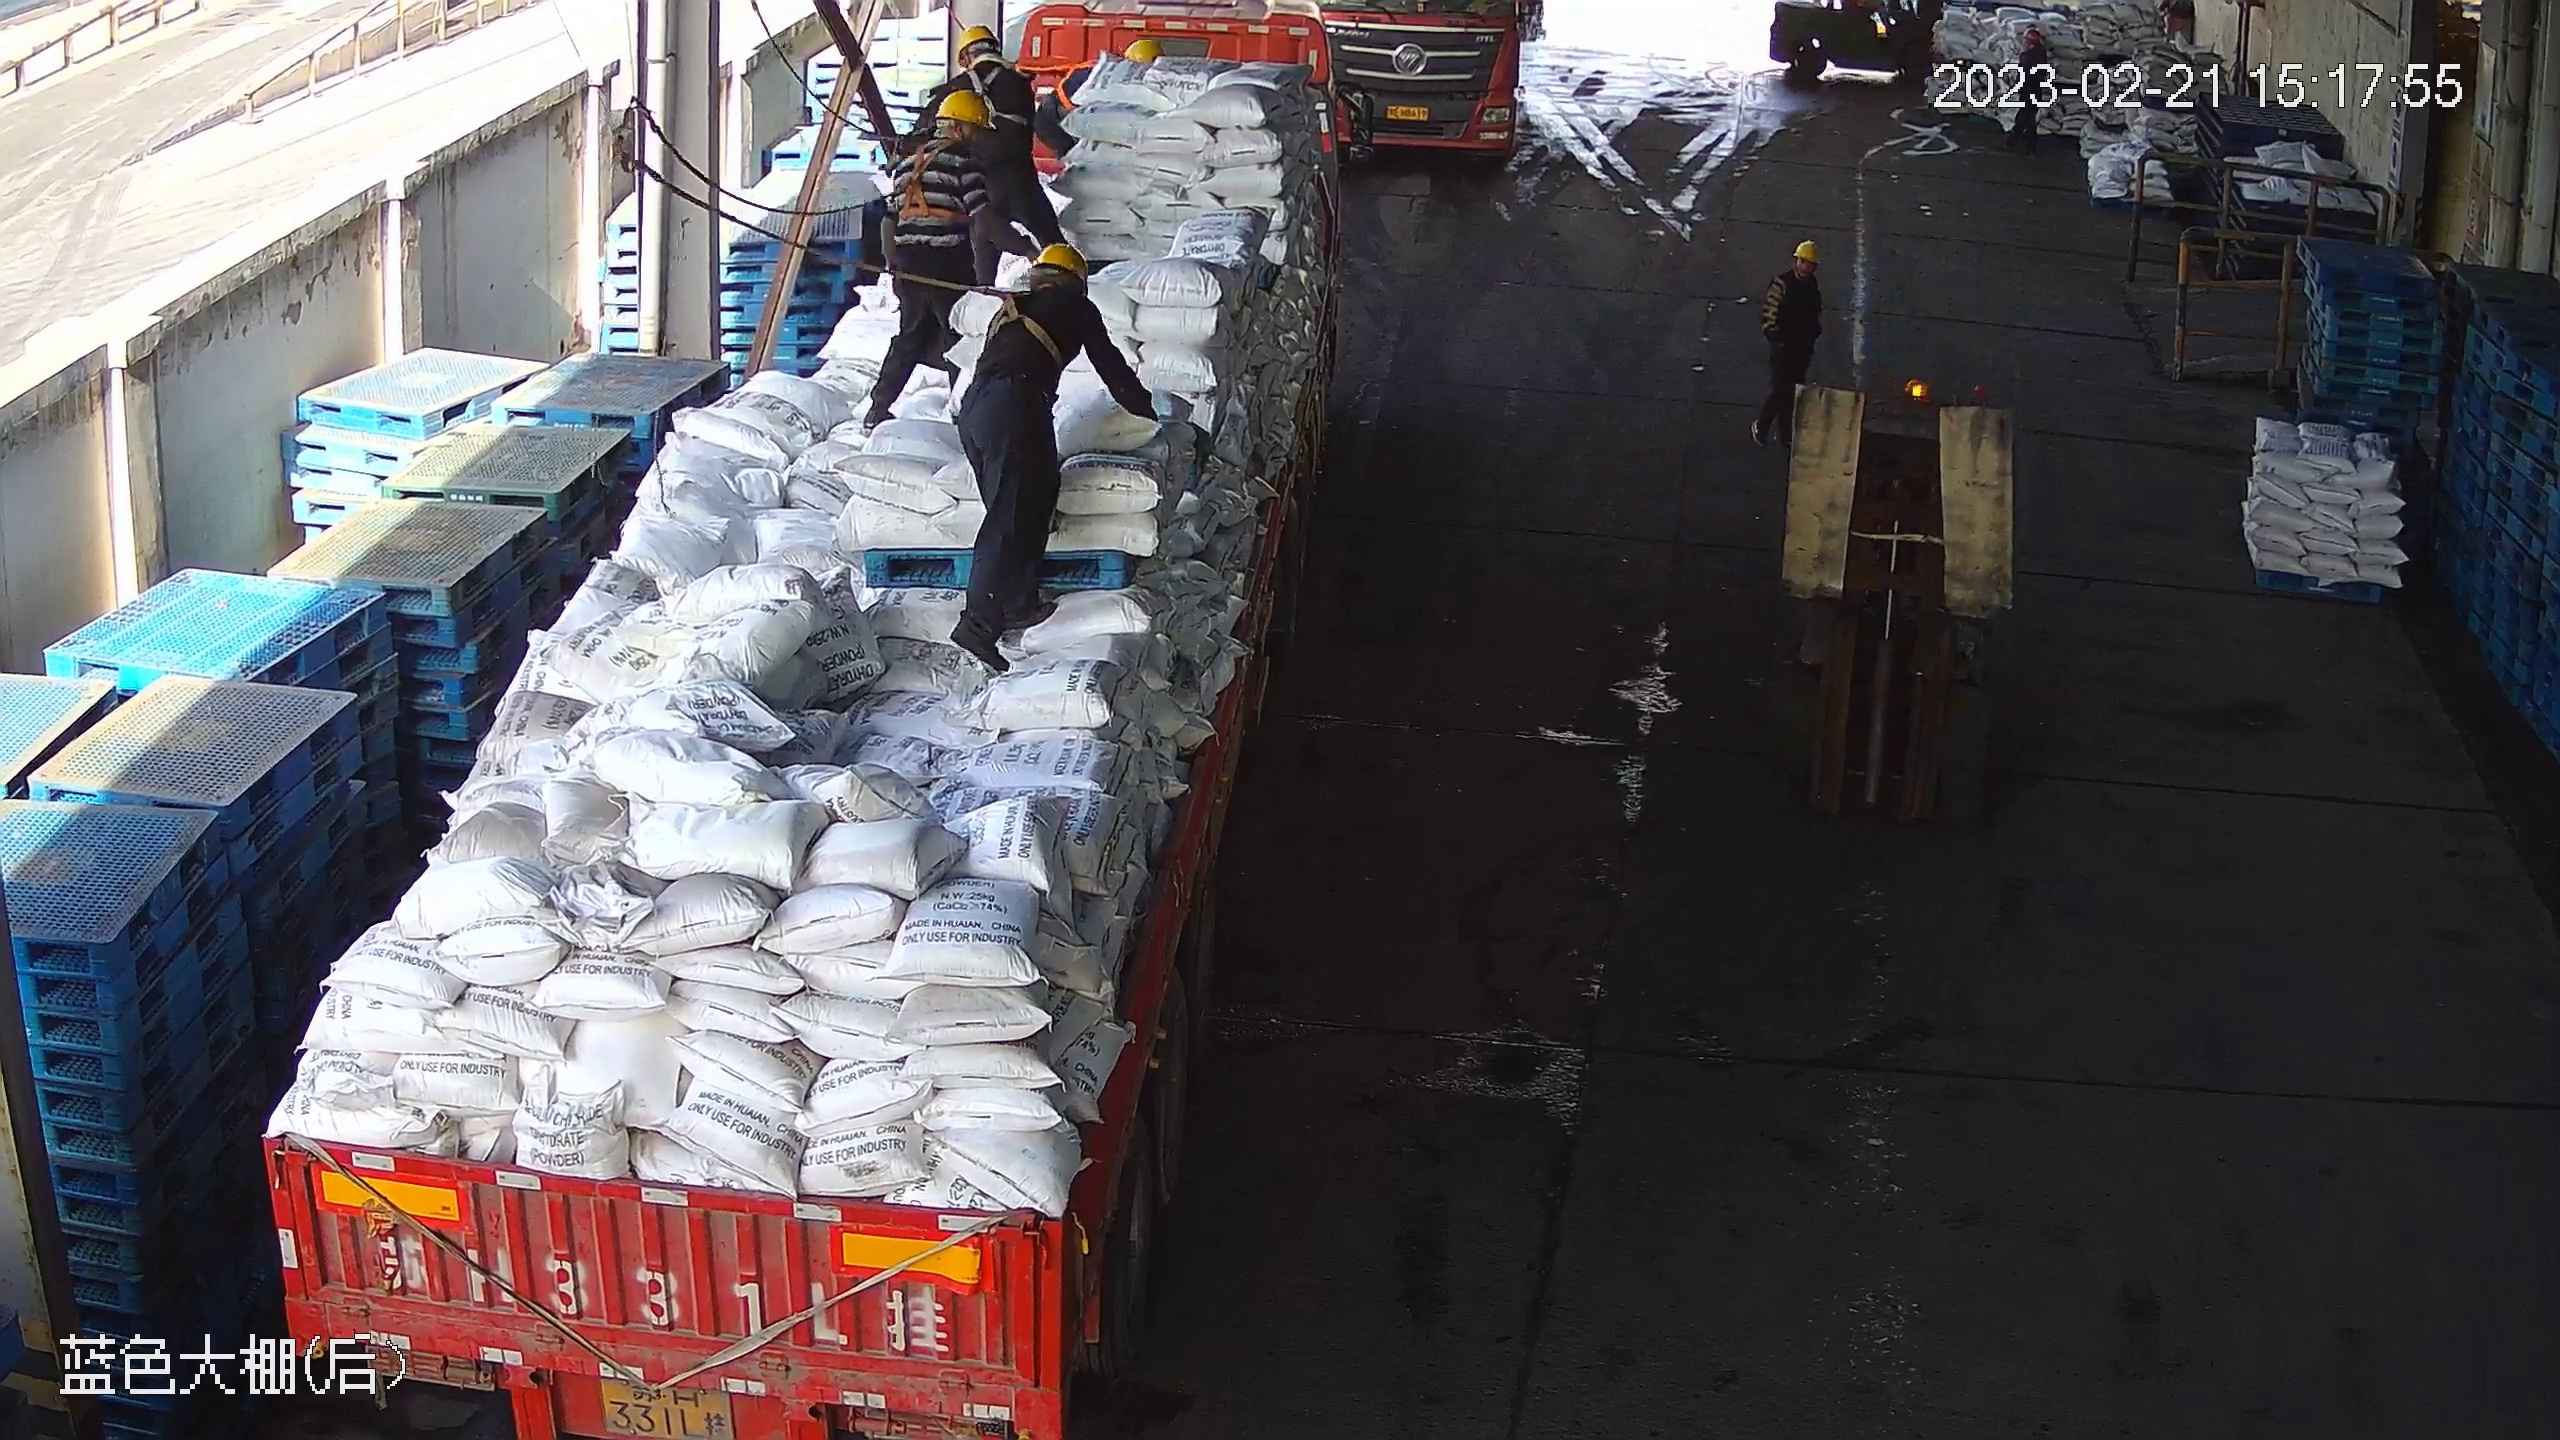belt: (869, 126, 978, 227), (959, 277, 1074, 362), (961, 67, 1028, 129)
head: (986, 242, 1102, 321), (892, 91, 996, 172), (928, 25, 1036, 100), (1770, 238, 1825, 295)
helmet: (1031, 242, 1089, 284), (933, 91, 993, 130), (956, 25, 1003, 68), (1123, 38, 1166, 64), (1790, 240, 1823, 266)
people: (949, 241, 1160, 673), (863, 91, 995, 430), (1751, 238, 1824, 449)
truck: (247, 1, 1354, 1436)
